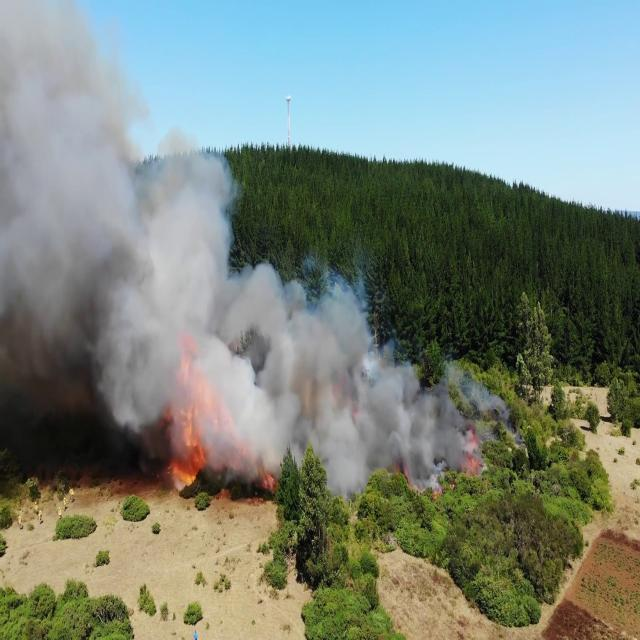Fire: (172, 366, 208, 496)
Smoke: (4, 2, 218, 488), (220, 252, 460, 495)
